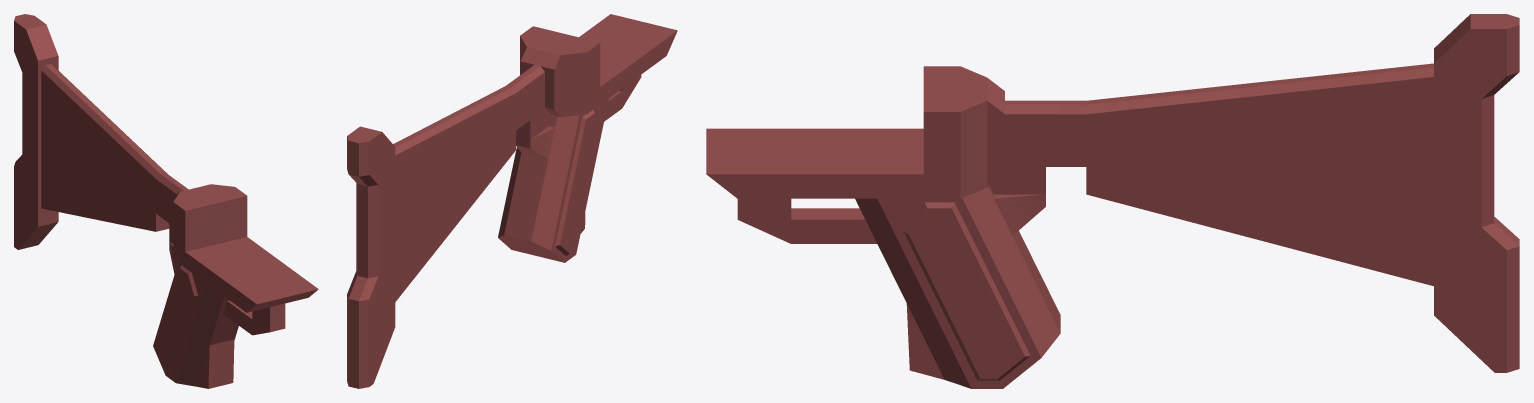
The model's file is WM0_Handle_LVL3.FBX.
3 views of the same model, side by side, from view 1: azimuth 30°, elevation 25°; view 2: azimuth 150°, elevation 25°; view 3: azimuth 270°, elevation 25° (orthographic). The views are drawn at different scales.
Visible parts, largest first — view 1: WM0_Handle_LVL3; view 2: WM0_Handle_LVL3; view 3: WM0_Handle_LVL3.
Part boxes in pixels (x1=…): WM0_Handle_LVL3: x1=14, y1=14, x2=318, y2=388; WM0_Handle_LVL3: x1=347, y1=14, x2=677, y2=388; WM0_Handle_LVL3: x1=706, y1=14, x2=1519, y2=388.
Bounding box in the file's own units: 6.06 × 21.5 × 45.38.
